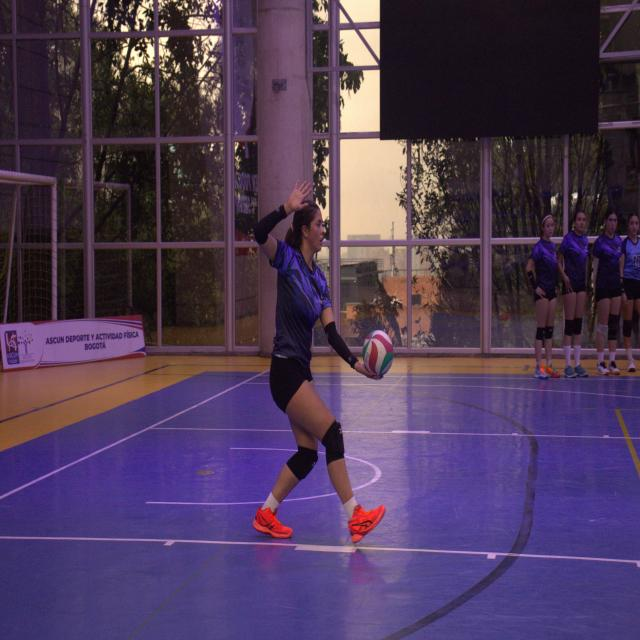volleyball: (361, 329, 394, 376)
